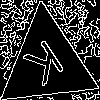K: (22, 38, 72, 96)
